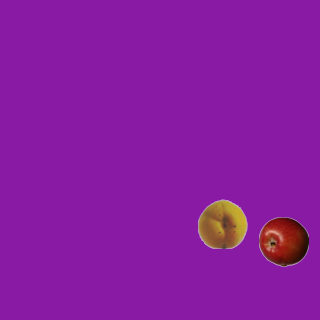Apple Braeburn: (258, 216, 308, 266)
Peach 2: (197, 198, 247, 248)
